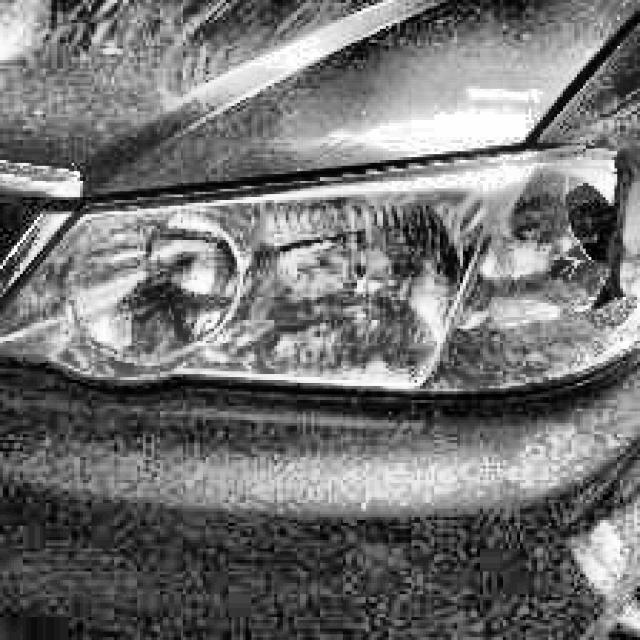head_lamp: (75, 214, 411, 388), (437, 180, 640, 375)
